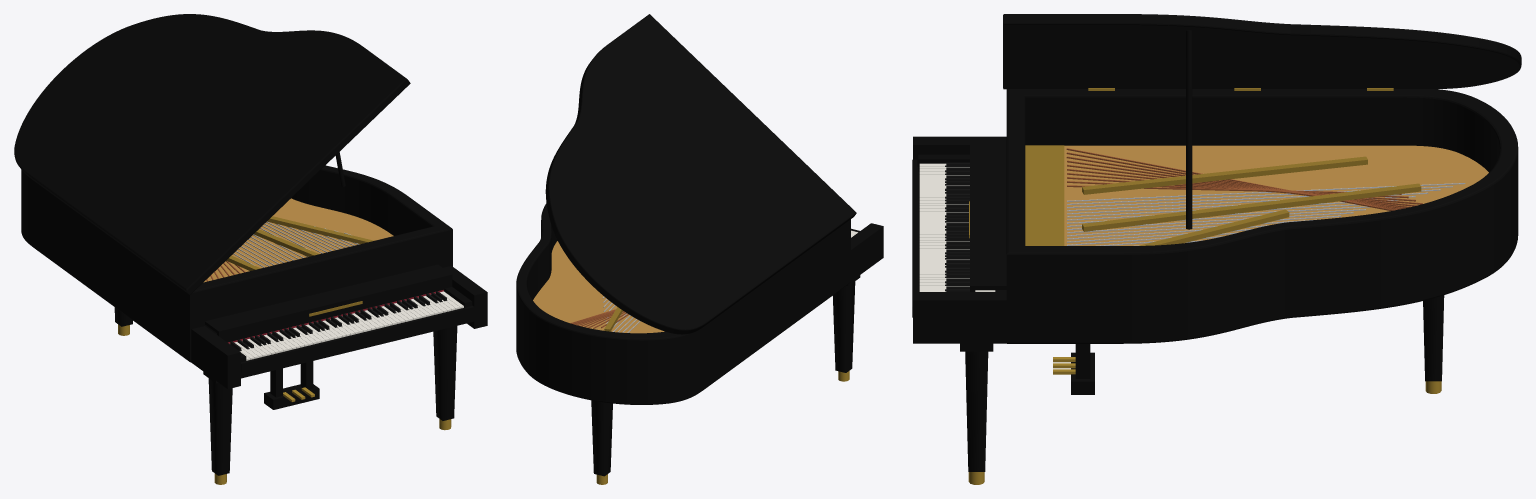
File: piano.glb
The picture shows the model from 3 angles, left to right: view 1: azimuth 30°, elevation 25°; view 2: azimuth 150°, elevation 25°; view 3: azimuth 270°, elevation 25°; orthographic projection. The views are drawn at different scales.
Visible parts, largest first — view 1: lid, rim, soundboard, nameboard, fallboard_top, keyslip, cheek_bass, leg_0, leg_1, keybed, struts, lyre (+2 smaller); view 2: lid, rim, soundboard, leg_0, leg_2, cheek_bass, strings_copper; view 3: rim, lid, soundboard, struts, strings_steel, fallboard_top, cheek_treble, strings_copper, pinblock, leg_1, leg_2, lidstick (+4 smaller).
Boxes of the visible parts, x1,y1,x2,y2 form: lid: (14,14,410,294); rim: (21,165,452,362); soundboard: (203,198,393,282); nameboard: (217,273,452,342); fallboard_top: (205,264,450,334); keyslip: (241,305,474,372); cheek_bass: (191,326,240,388); leg_0: (203,371,232,475); leg_1: (433,326,457,420); keybed: (241,315,474,378); struts: (226,216,373,270); lyre: (264,361,319,409); lid: (545,14,856,334); rim: (516,203,850,404); soundboard: (533,241,664,333); leg_0: (833,275,860,372); leg_2: (591,400,612,476); cheek_bass: (851,223,883,281); strings_copper: (570,309,628,328); rim: (1006,89,1518,343); lid: (1003,14,1521,89); soundboard: (1064,145,1488,245); struts: (1082,156,1421,245); strings_steel: (1067,183,1465,245); fallboard_top: (970,139,1006,289); cheek_treble: (913,292,1006,343); strings_copper: (1066,148,1422,210); pinblock: (1025,145,1064,245); leg_1: (960,343,993,471); leg_2: (1423,295,1444,381); lidstick: (1186,30,1192,229).
Size of what is drawn, in the model's own units: 1.5 by 1.87 by 2.29.
